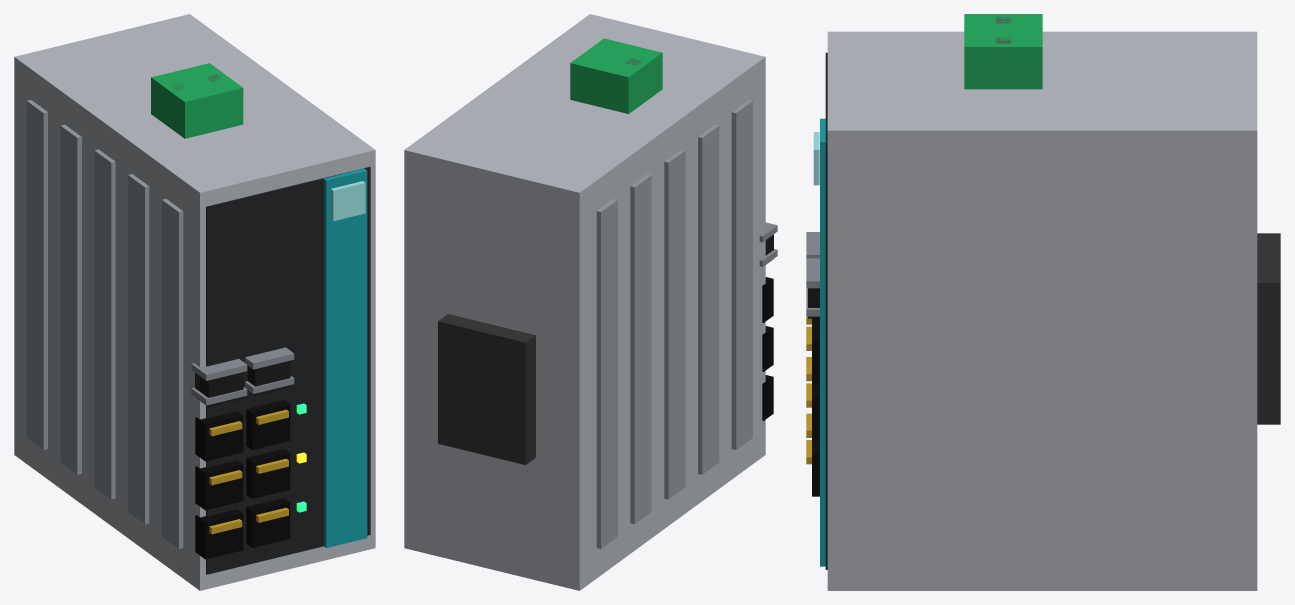
The model's file is 28-industrial-switch-dinrail-6p.glb.
3 views of the same model, side by side, from view 1: azimuth 30°, elevation 25°; view 2: azimuth 150°, elevation 25°; view 3: azimuth 270°, elevation 25° (orthographic). The views are drawn at different scales.
Size of the model in its own units: 0.0615 by 0.142 by 0.1215.
